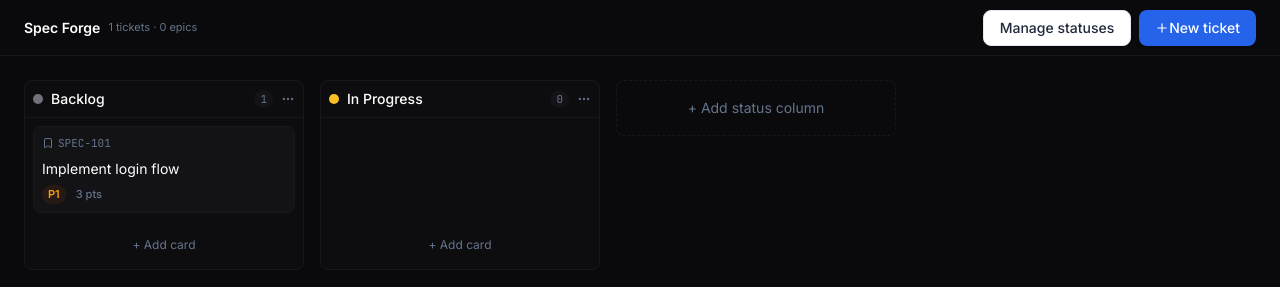
BoardPage › shows a not-available notice when clicking a column menu
Step 1. Click the button named "Backlog column menu" → (288, 99), box [281,92,295,106]
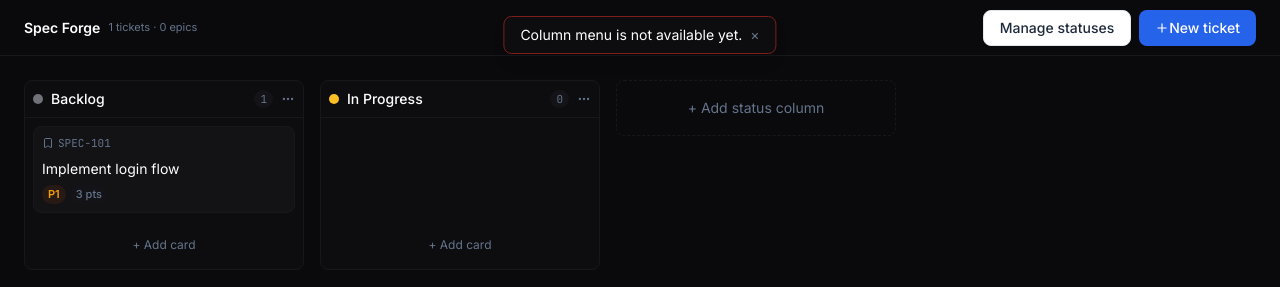
Expected: the text "Column menu is not available yet." is shown, [520,25,742,45]
